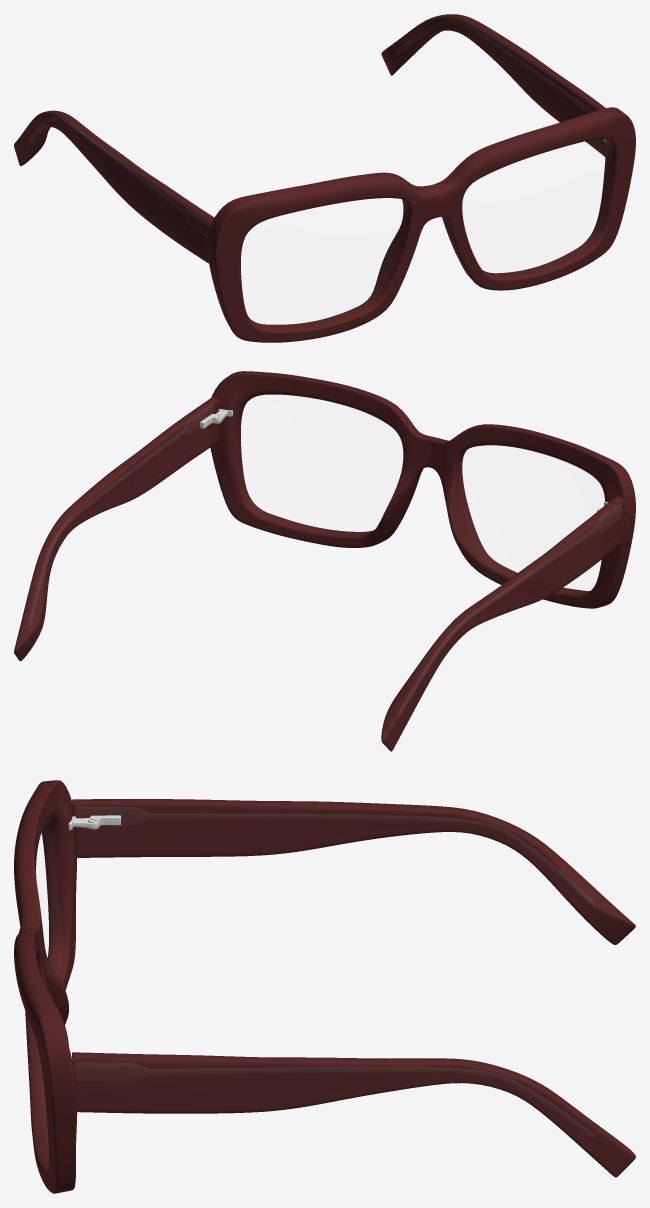
File: ketty-opt-sbf-amarena_wide.glb
3 views of the same model, one above another, from view 1: azimuth 30°, elevation 25°; view 2: azimuth 150°, elevation 25°; view 3: azimuth 270°, elevation 25° (orthographic). The views are drawn at different scales.
Visible parts, largest first — view 1: face_front, right_temple, left_temple; view 2: face_front, right_temple, left_temple; view 3: left_temple, right_temple, face_front.
Boxes of the visible parts, bbox=[...] form: face_front: bbox=[207, 107, 635, 342]; right_temple: bbox=[14, 110, 214, 263]; left_temple: bbox=[381, 14, 605, 156]; face_front: bbox=[210, 371, 635, 608]; right_temple: bbox=[381, 496, 624, 751]; left_temple: bbox=[14, 397, 219, 661]; left_temple: bbox=[72, 1052, 635, 1177]; right_temple: bbox=[72, 799, 635, 944]; face_front: bbox=[14, 780, 77, 1193].
Bounding box in the file's own units: 0.1398 × 0.0496 × 0.1395.
